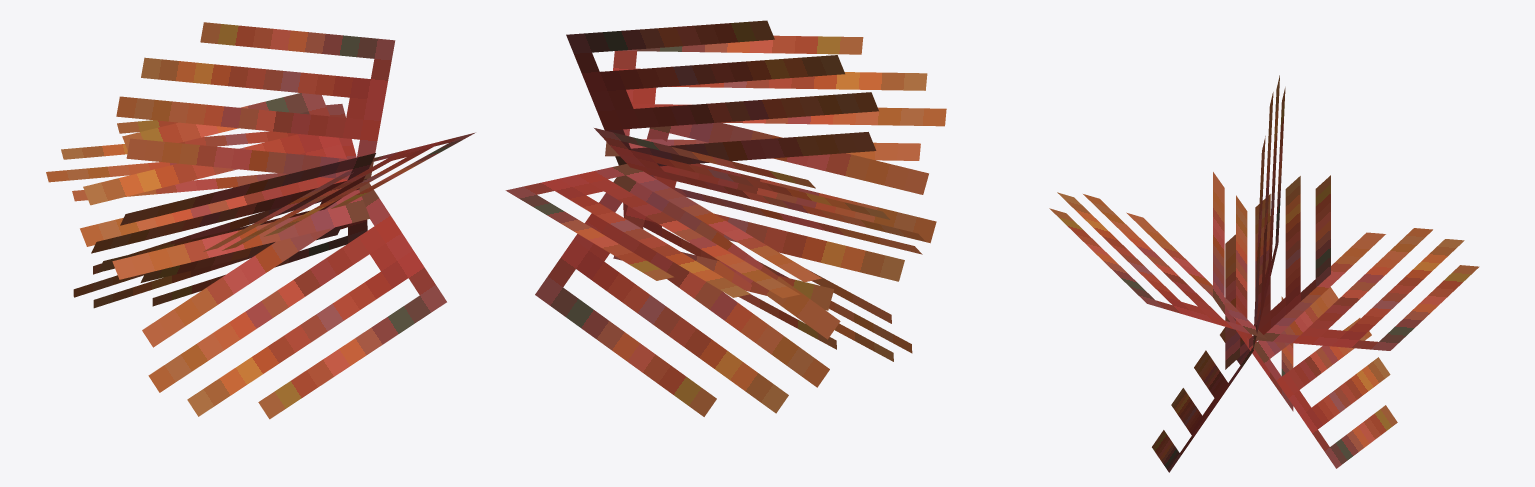
File: GrassTuft.fbx
3 views of the same model, side by side, from view 1: azimuth 30°, elevation 25°; view 2: azimuth 150°, elevation 25°; view 3: azimuth 270°, elevation 25° (orthographic). The views are drawn at different scales.
Visible parts, largest first — view 1: Tuft; view 2: Tuft; view 3: Tuft.
Boxes of the visible parts, left/top/right/bottom form: Tuft: left=46, top=22, right=475, bottom=419; Tuft: left=505, top=20, right=946, bottom=416; Tuft: left=1049, top=75, right=1479, bottom=472.
Size of the model in its own units: 124 by 136 by 151.
1 material, 1 textured.
